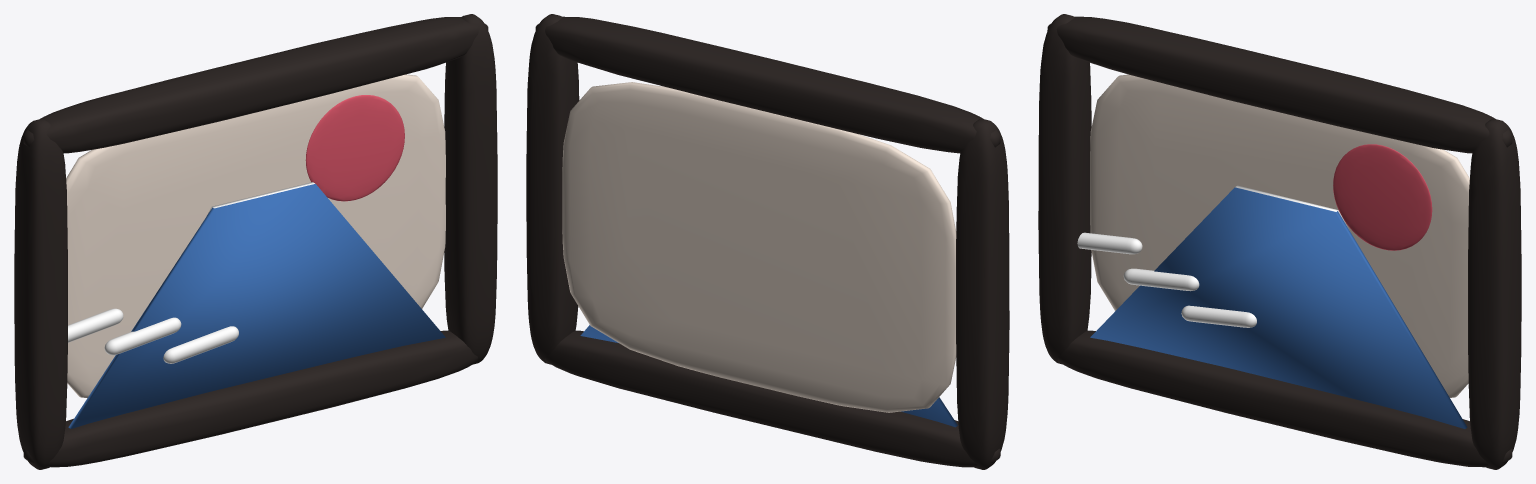
Rendered from deco_cuadro_fuji.glb.
3 views of the same model, side by side, from view 1: azimuth 30°, elevation 25°; view 2: azimuth 150°, elevation 25°; view 3: azimuth 330°, elevation 25° (orthographic).
Visible parts, largest first — view 1: lienzo.015, monte.001, marco horizontal.031, marco horizontal.030, marco vertical.030, marco vertical.031, sol fuji.001, nube fuji 1.001, nube fuji 2.001, nube fuji 0.001; view 2: lienzo.015, marco horizontal.031, marco vertical.030, marco horizontal.030, marco vertical.031, monte.001; view 3: lienzo.015, monte.001, marco horizontal.031, marco horizontal.030, marco vertical.031, marco vertical.030, sol fuji.001, nube fuji 1.001, nube fuji 2.001, nube fuji 0.001.
Part boxes in pixels (bbox=[...]): lienzo.015: bbox=[66, 74, 445, 398]; monte.001: bbox=[68, 184, 445, 428]; marco horizontal.031: bbox=[23, 17, 488, 153]; marco horizontal.030: bbox=[23, 330, 478, 467]; marco vertical.030: bbox=[14, 118, 67, 469]; marco vertical.031: bbox=[444, 14, 497, 364]; sol fuji.001: bbox=[305, 95, 404, 201]; nube fuji 1.001: bbox=[104, 317, 181, 355]; nube fuji 2.001: bbox=[163, 326, 238, 363]; nube fuji 0.001: bbox=[68, 308, 123, 342]; lienzo.015: bbox=[562, 82, 956, 412]; marco horizontal.031: bbox=[535, 16, 1000, 153]; marco vertical.030: bbox=[956, 118, 1009, 469]; marco horizontal.030: bbox=[544, 330, 1000, 467]; marco vertical.031: bbox=[526, 14, 579, 364]; monte.001: bbox=[580, 325, 957, 427]; lienzo.015: bbox=[1090, 74, 1469, 397]; monte.001: bbox=[1090, 187, 1467, 428]; marco horizontal.031: bbox=[1047, 16, 1512, 153]; marco horizontal.030: bbox=[1057, 330, 1512, 467]; marco vertical.031: bbox=[1468, 118, 1521, 469]; marco vertical.030: bbox=[1038, 14, 1091, 364]; sol fuji.001: bbox=[1333, 144, 1432, 250]; nube fuji 1.001: bbox=[1123, 268, 1199, 291]; nube fuji 2.001: bbox=[1181, 305, 1256, 327]; nube fuji 0.001: bbox=[1077, 232, 1142, 254].
Size of the model in its own units: 0.6498 by 0.4695 by 0.0597.
